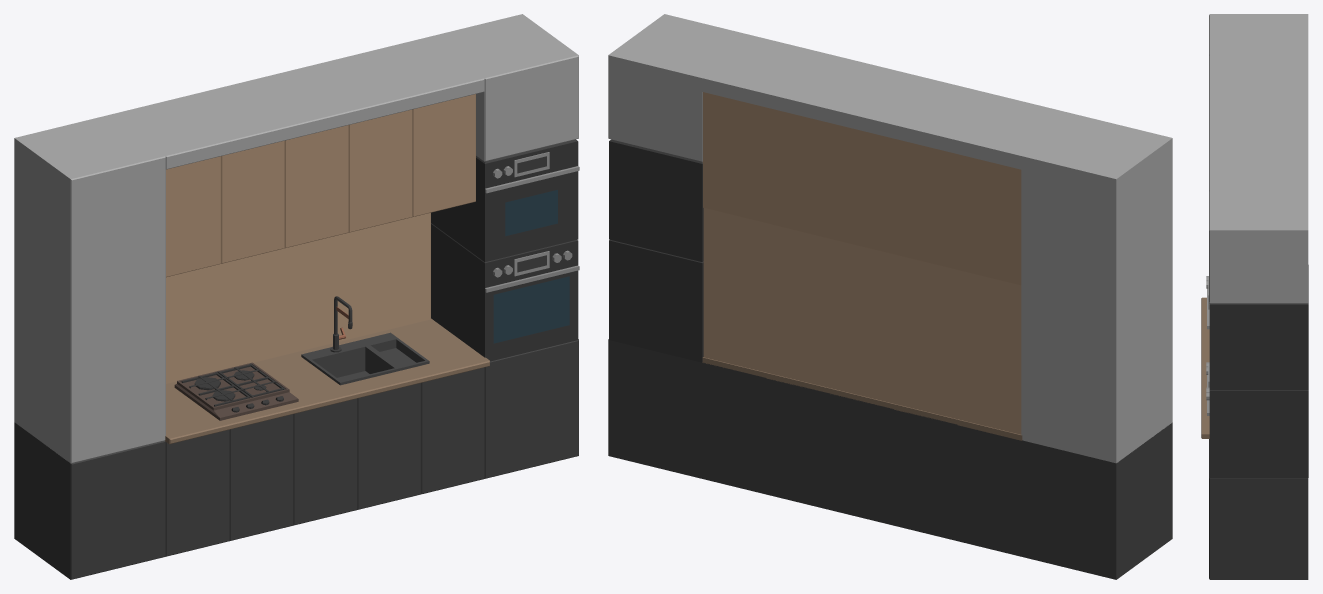
Rendered from kitchen039.glb.
3 views of the same model, side by side, from view 1: azimuth 30°, elevation 25°; view 2: azimuth 150°, elevation 25°; view 3: azimuth 270°, elevation 25° (orthographic). The views are drawn at different scales.
Visible parts, largest first — view 1: kitchen.039; view 2: kitchen.039; view 3: kitchen.039.
Boxes of the visible parts, bbox=[...] form: kitchen.039: bbox=[14, 14, 579, 579]; kitchen.039: bbox=[608, 14, 1172, 579]; kitchen.039: bbox=[1201, 14, 1308, 579].
Size of the model in its own units: 3.2 by 2.41 by 0.6723.
1 material, 1 textured.
